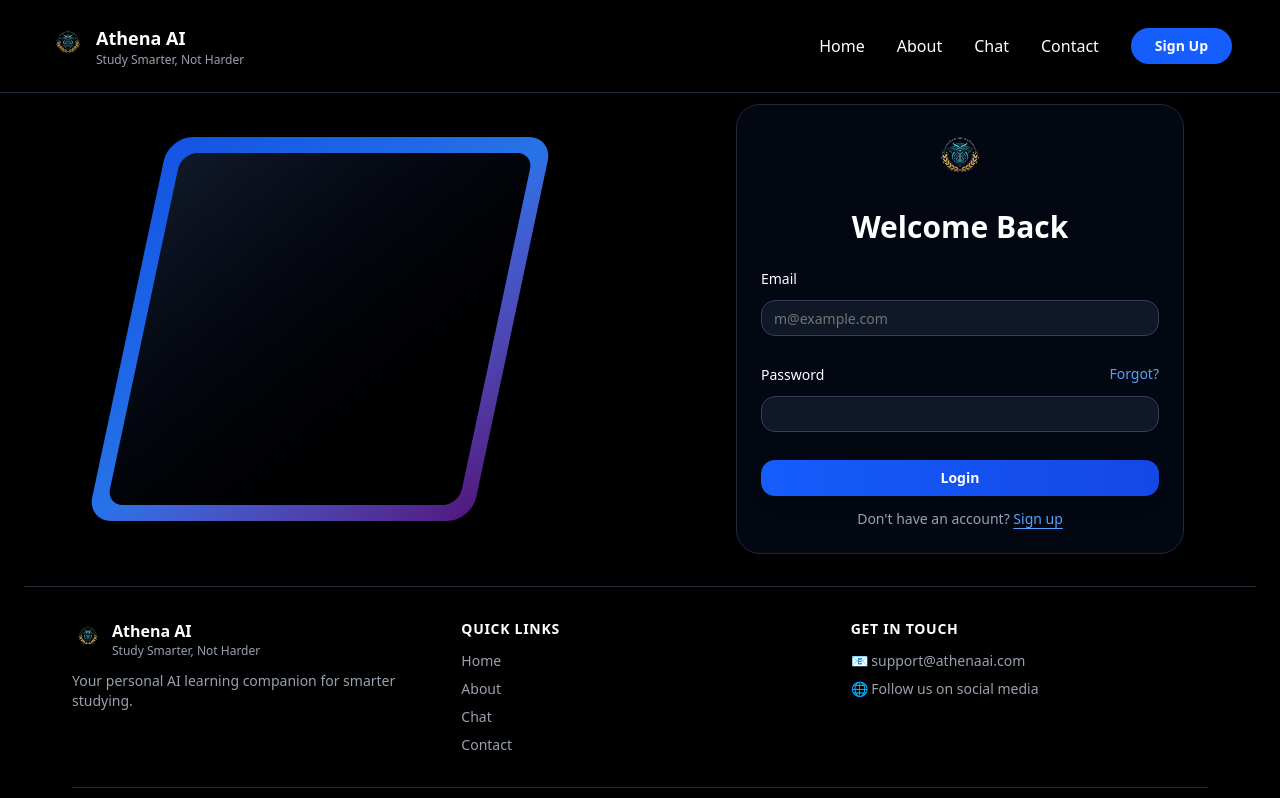
Test: LoginForm › stores the session on success
Type "me@example.com" into the field labelled "Email" at (960, 318), box [761, 300, 1159, 336]
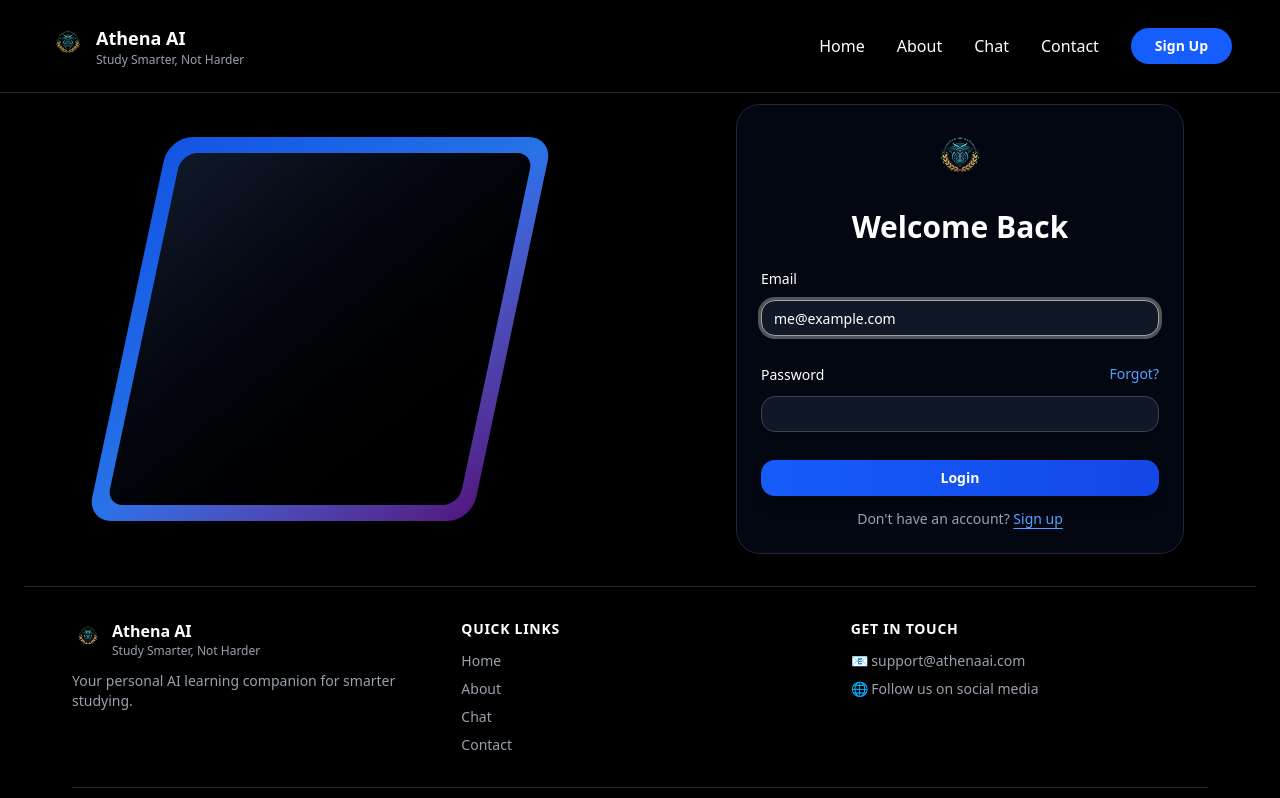
Type "password123" into the password field labelled "Password" at (960, 414), box [761, 396, 1159, 432]
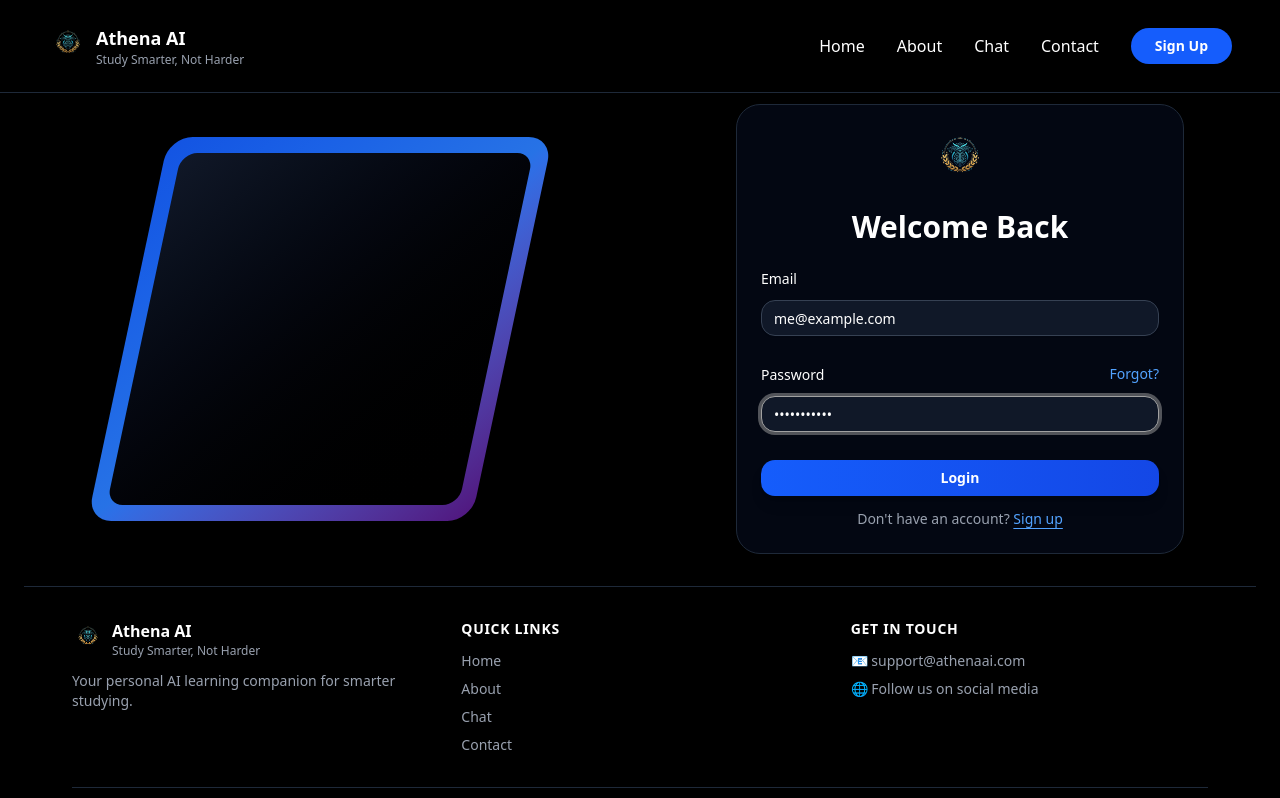
Click the submit button at (960, 478), box [761, 460, 1159, 496]
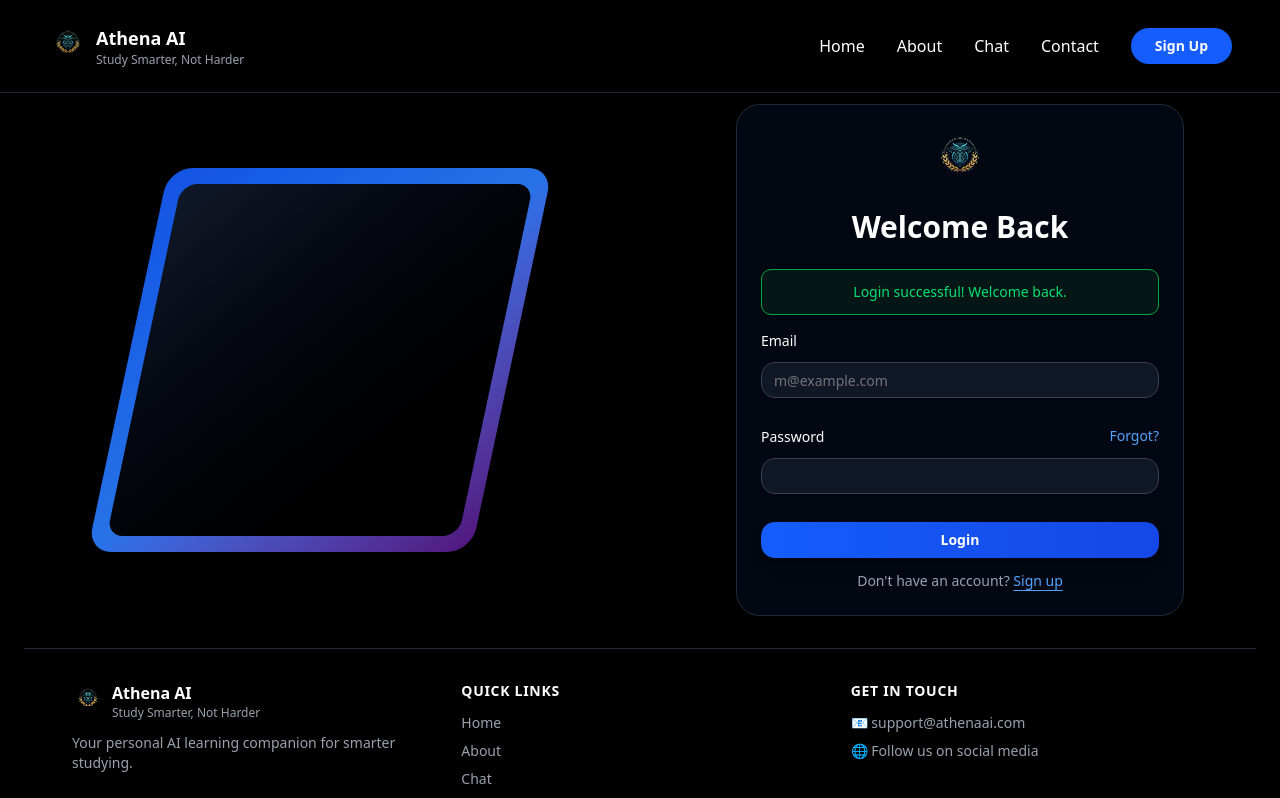
Check: the text "Login successful! Welcome back." is shown, box [761, 269, 1159, 315]
